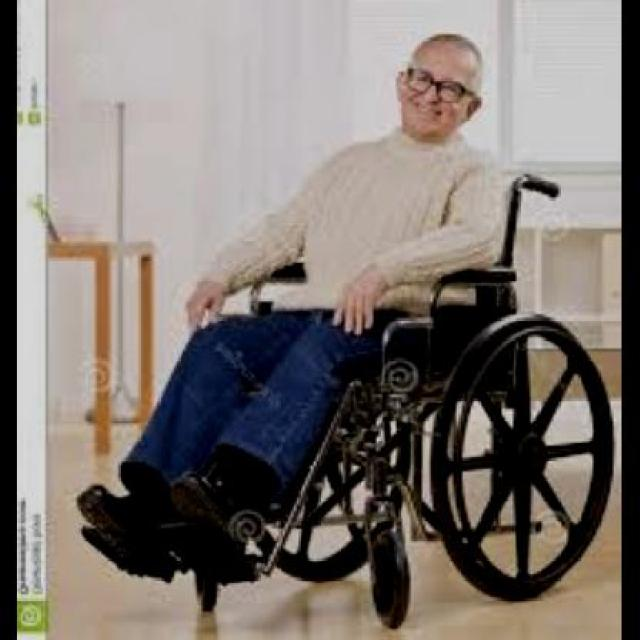wheelchairs: (76, 166, 623, 635)
